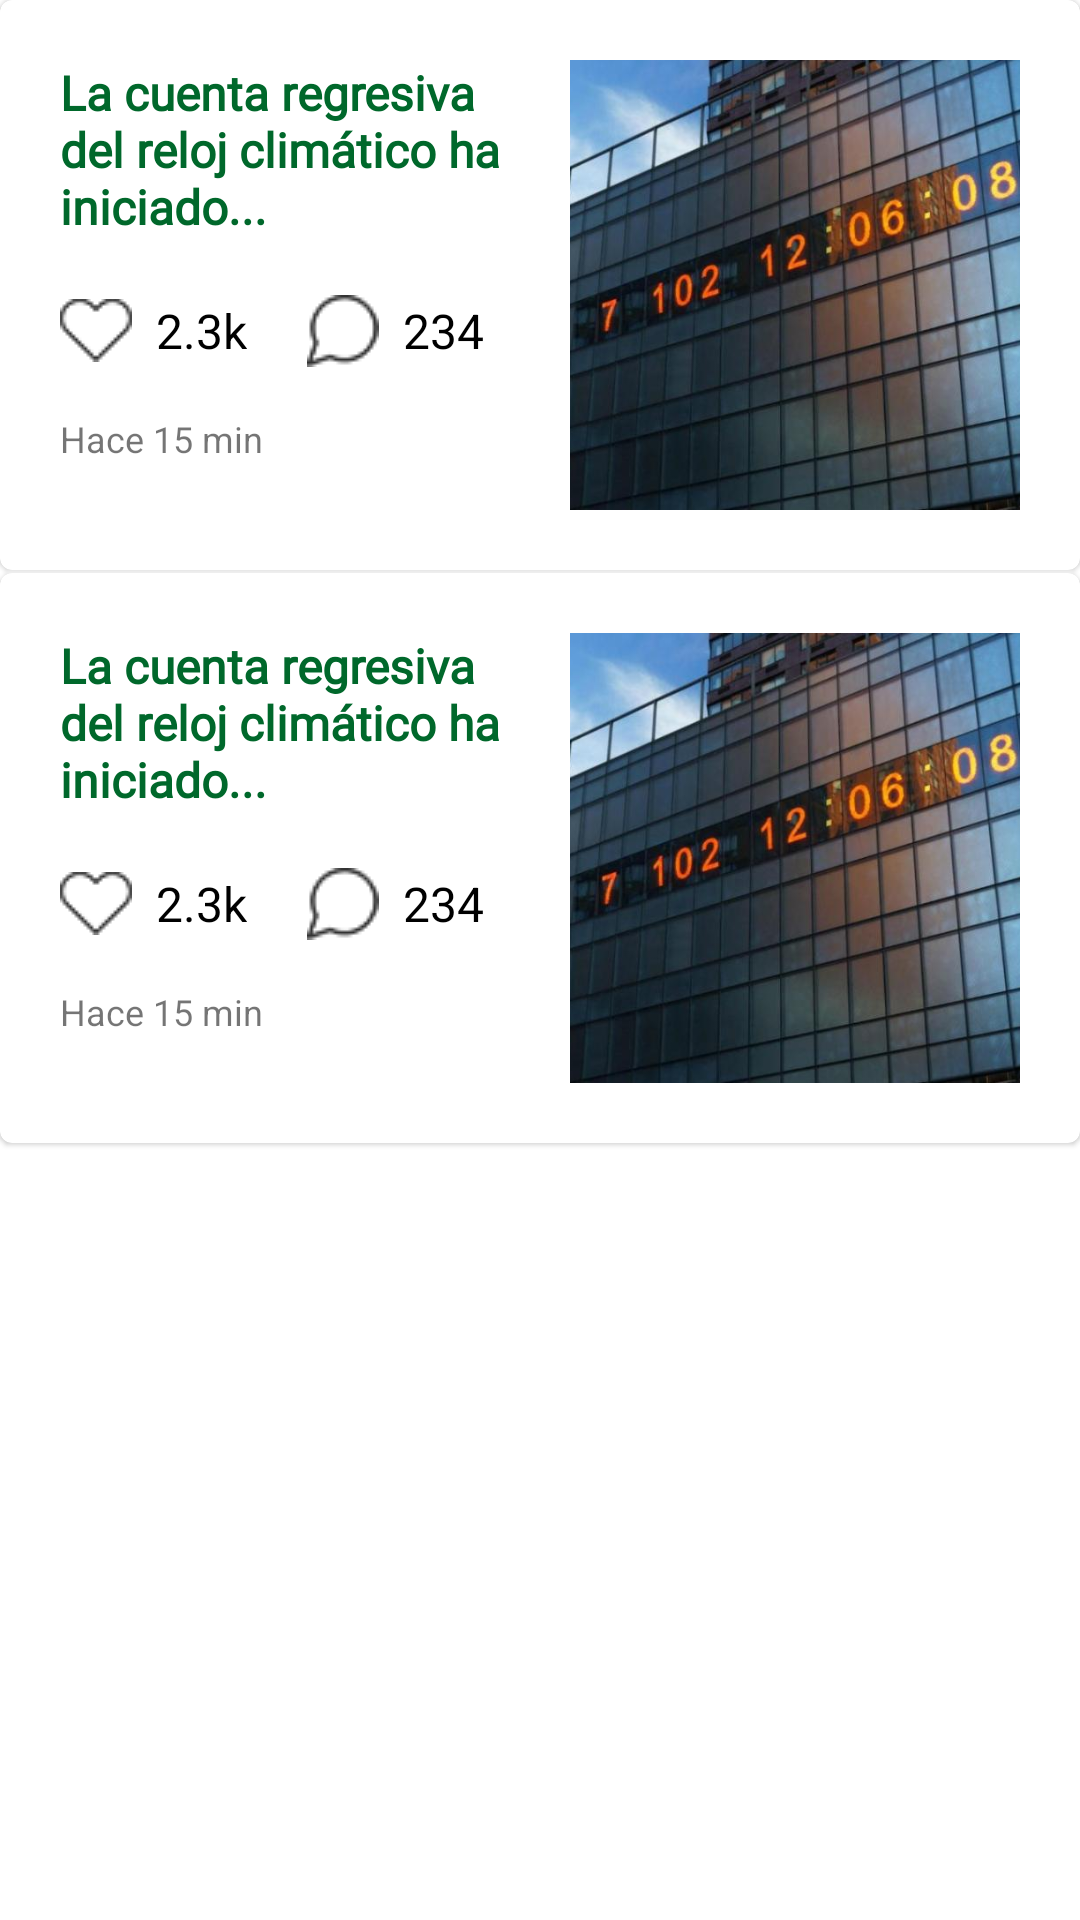

Where icons sit on this 1080*1920 app screen, as bbox(x1, y1, x2, y2):
comment: bbox(307, 295, 379, 367), bbox(307, 868, 379, 940)
heart: bbox(60, 299, 132, 362), bbox(60, 872, 132, 935)
